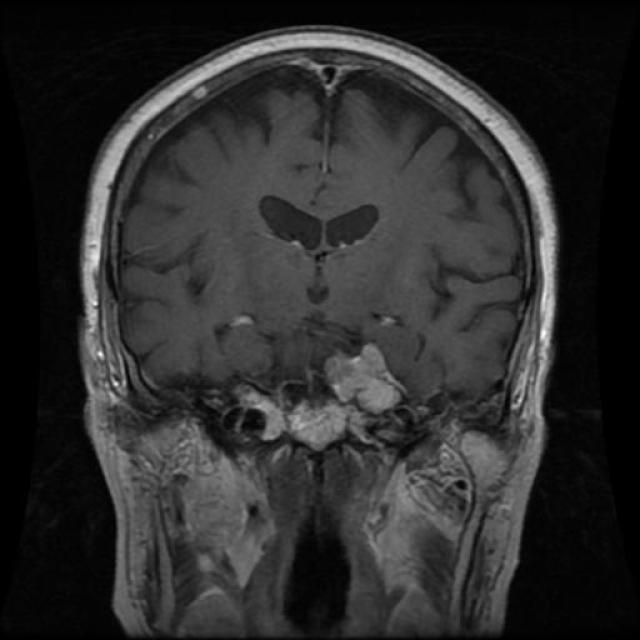meningioma: (324, 325, 416, 433)
